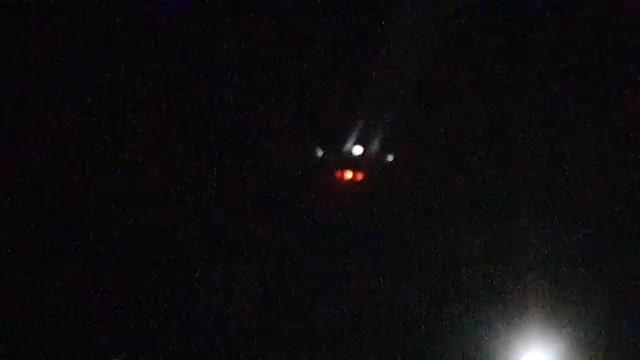Plane: (301, 129, 411, 186)
